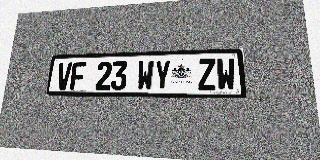2: (95, 61, 112, 90)
3: (111, 61, 127, 90)
F: (70, 62, 87, 90)
V: (56, 62, 73, 90)
W: (216, 58, 236, 91), (137, 60, 154, 90)
Y: (154, 59, 170, 90)
Z: (198, 58, 216, 91)
